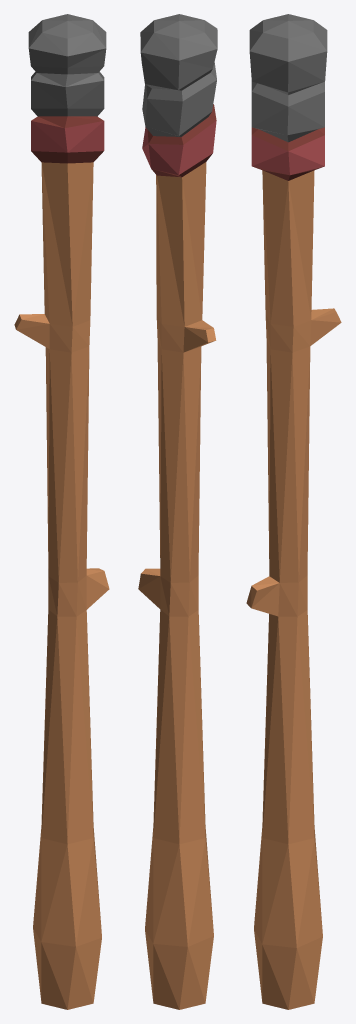
The model's file is SM_Prop_TorchStick_01.fbx.
3 views of the same model, side by side, from view 1: azimuth 90°, elevation 25°; view 2: azimuth 210°, elevation 25°; view 3: azimuth 270°, elevation 25° (orthographic).
Visible parts, largest first — view 1: SM_Prop_TorchStick_01; view 2: SM_Prop_TorchStick_01; view 3: SM_Prop_TorchStick_01.
Part boxes in pixels (x1,y1,x2,y2): SM_Prop_TorchStick_01: (14,14,109,1009); SM_Prop_TorchStick_01: (138,14,217,1009); SM_Prop_TorchStick_01: (246,14,341,1009).
Bounding box in the file's own units: 11.07 × 134 × 11.88.
